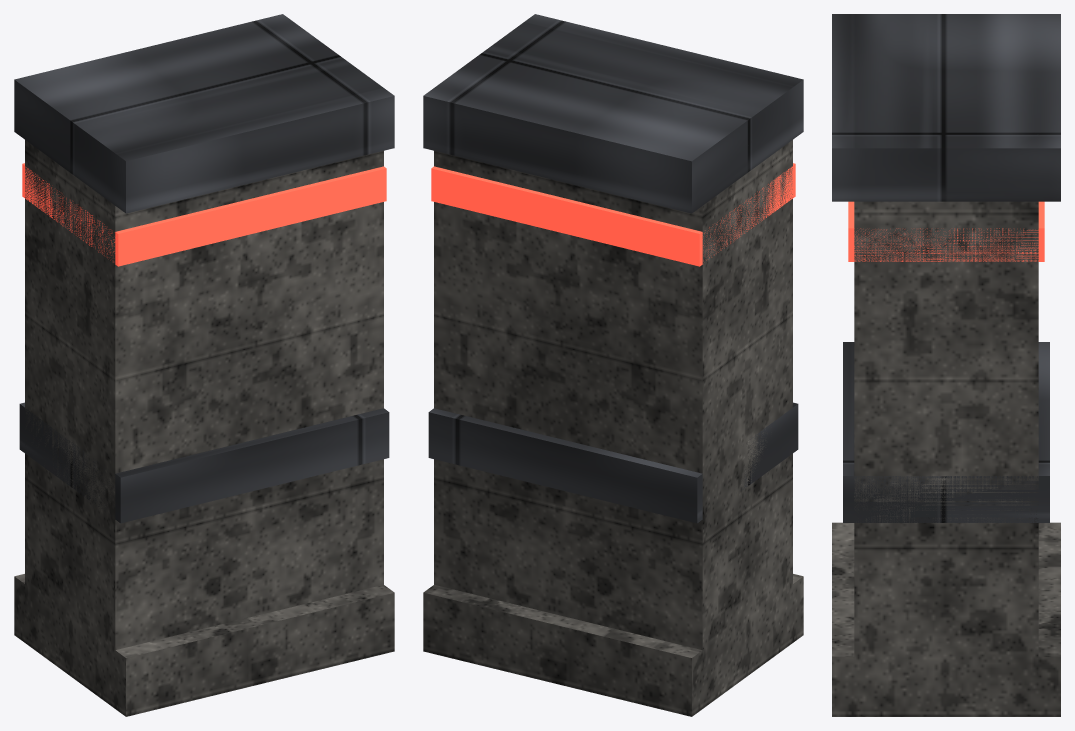
Rendered from Building - Wall Arm-CrvlHcvS.glb.
3 views of the same model, side by side, from view 1: azimuth 30°, elevation 25°; view 2: azimuth 150°, elevation 25°; view 3: azimuth 270°, elevation 25° (orthographic). The views are drawn at different scales.
Visible parts, largest first — view 1: Arm; view 2: Arm; view 3: Arm.
Boxes of the visible parts, x1=… form: Arm: x1=14, y1=14, x2=394, y2=716; Arm: x1=423, y1=14, x2=803, y2=716; Arm: x1=832, y1=14, x2=1060, y2=716.
Size of the model in its own units: 0.43 by 0.85 by 0.31.
3 materials, 2 textured.
